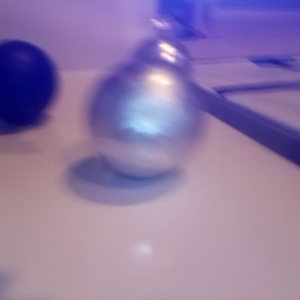alive_ball: (91, 62, 200, 178), (132, 36, 192, 92)
dead_ball: (1, 38, 58, 124)
